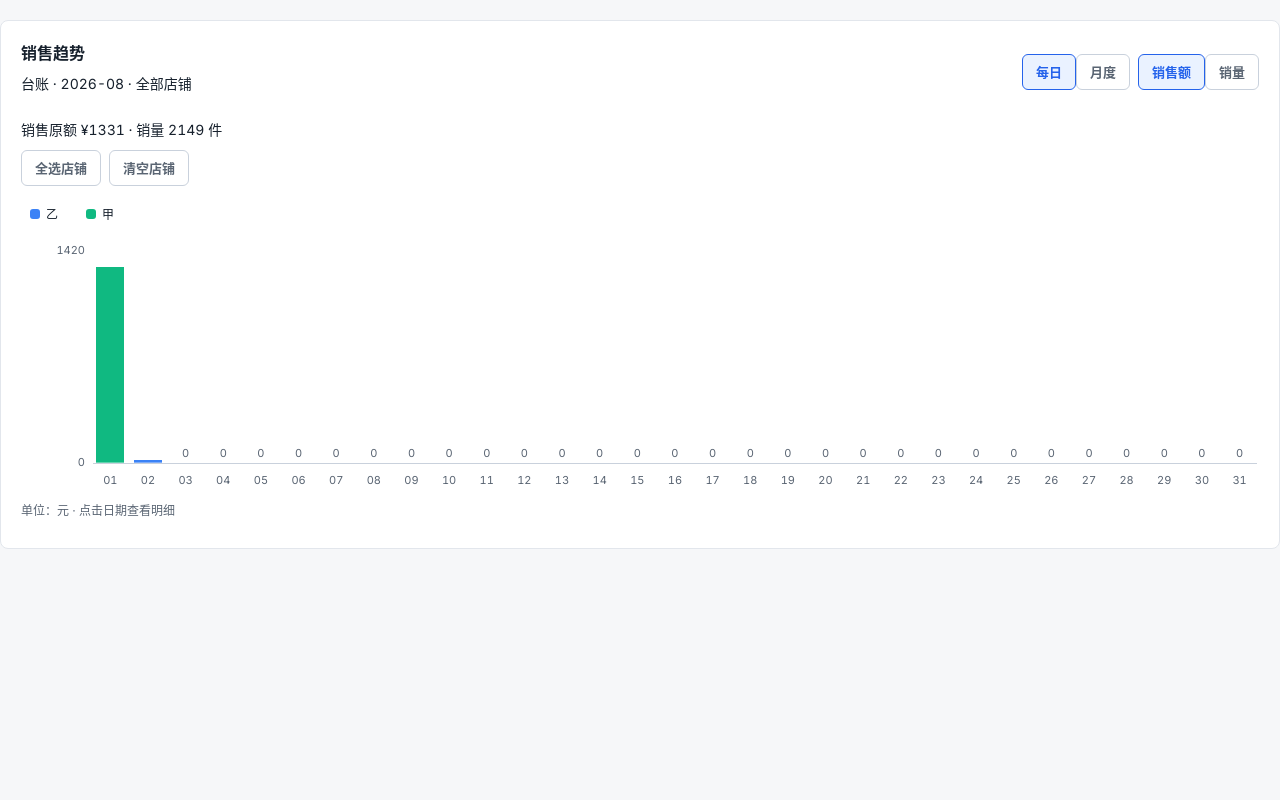
defaults to twelve calendar slots and one total column, preserving missing months
Click the button "月度". click: (1103,72)
box: [1076, 54, 1130, 90]
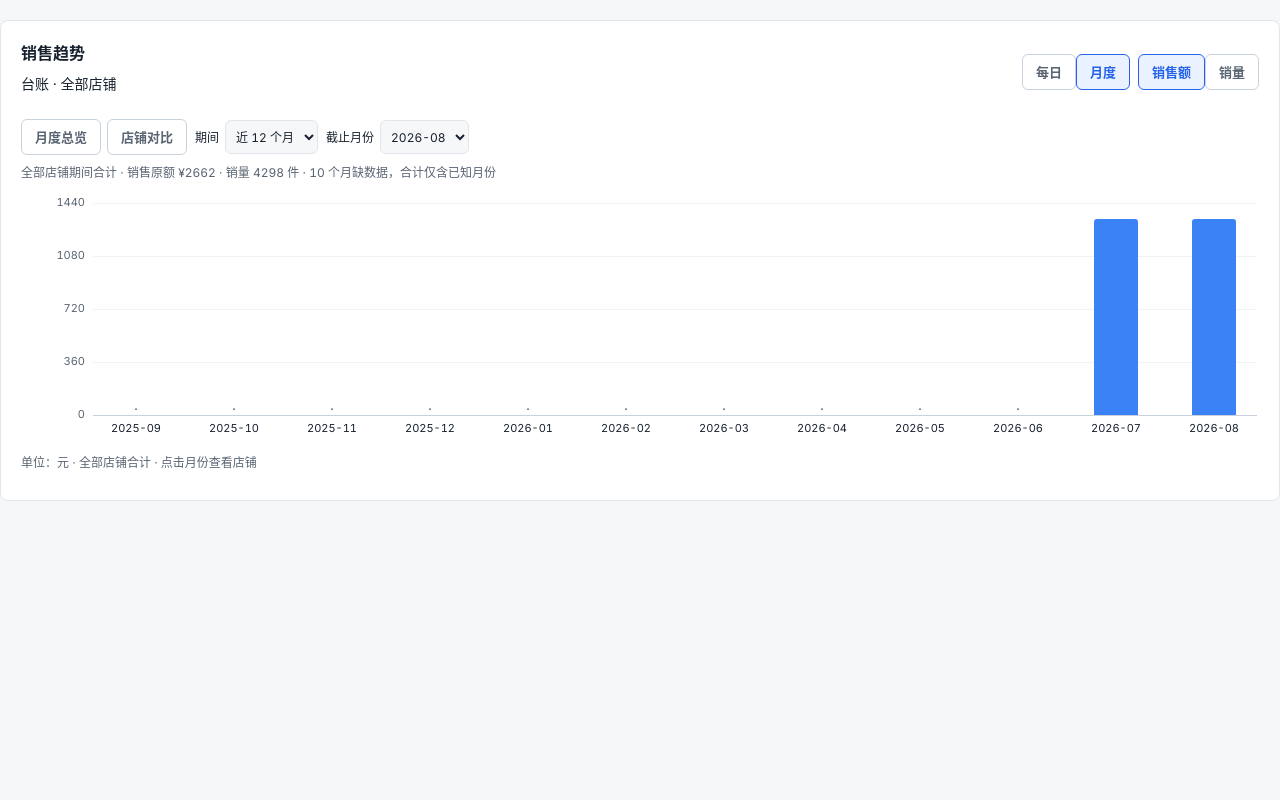
Now the number of buttons with class "sales-month-group" is 12
Click the button with class "sales-month-group" showing "2026-08". click: (1214,309)
box: [1171, 203, 1257, 415]
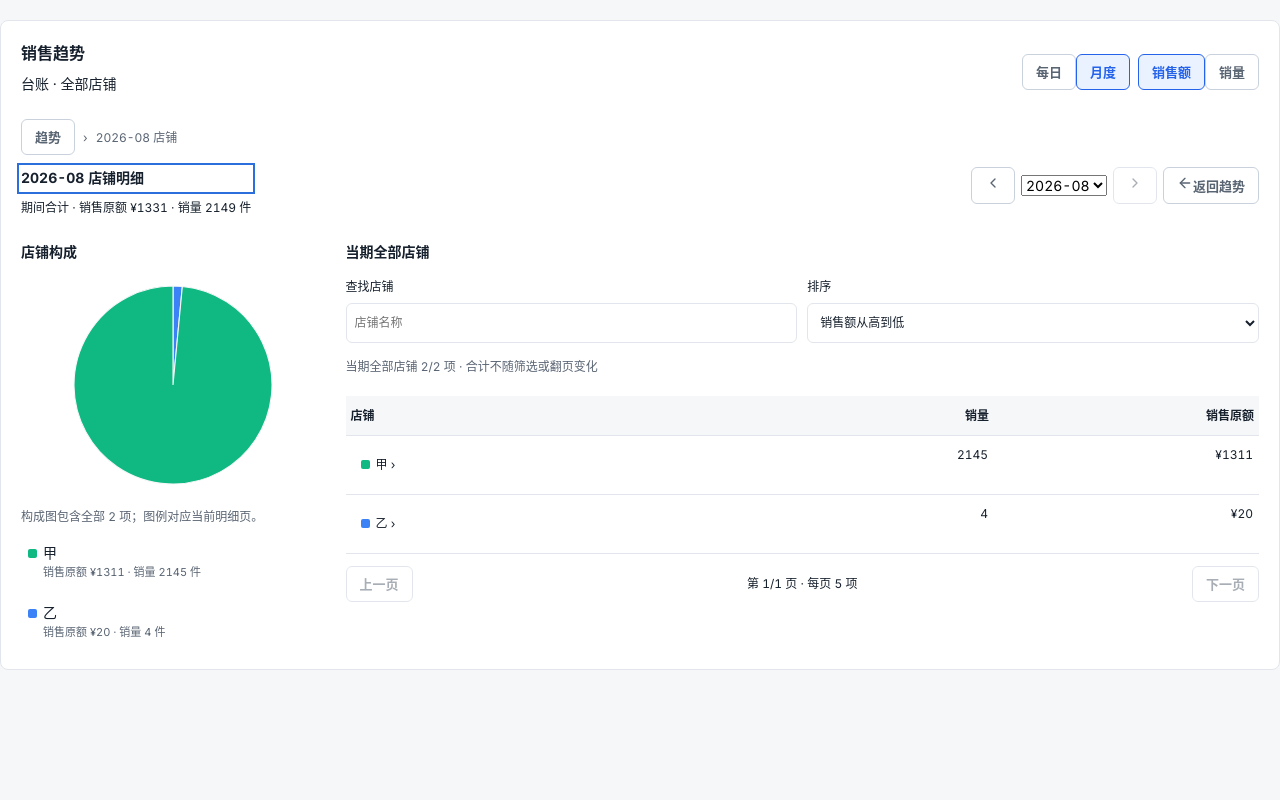
Now the heading "2026-08 店铺明细" is shown, box [21, 169, 144, 186]
Now the icon with class "sales-store-pie" is shown, box [63, 275, 283, 495]
Now the number of buttons with class "sales-store-entry" is 2, box [352, 445, 404, 485]; [352, 504, 404, 544]
